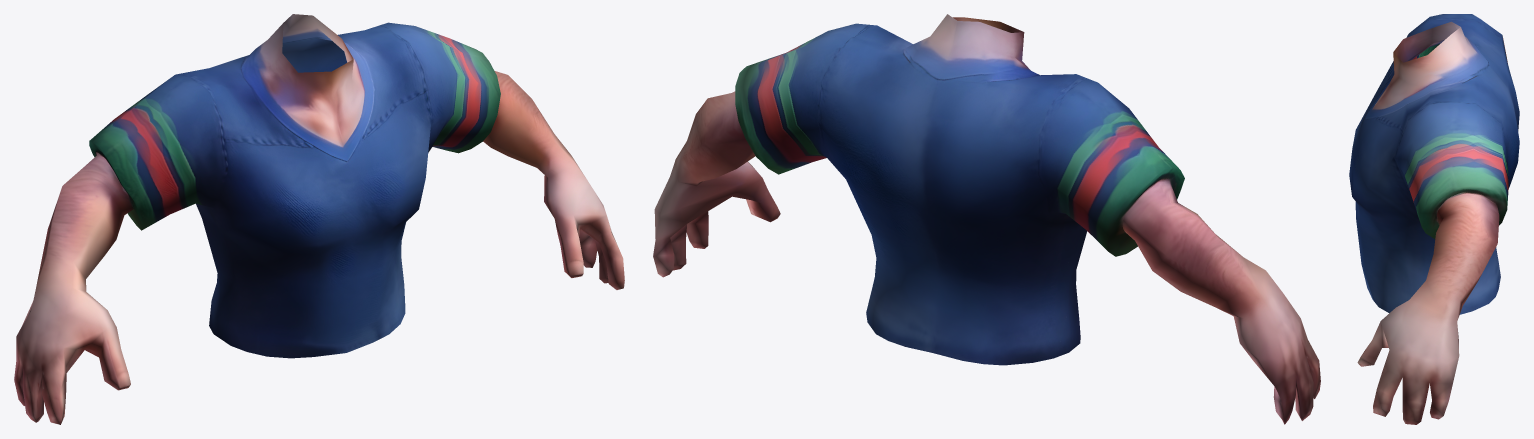
File: crowd_torso_m9_blue_vneck.fbx
3 views of the same model, side by side, from view 1: azimuth 30°, elevation 25°; view 2: azimuth 150°, elevation 25°; view 3: azimuth 270°, elevation 25° (orthographic). The views are drawn at different scales.
Parts seen in each view (by area): view 1: tripo_node_3141be17; view 2: tripo_node_3141be17; view 3: tripo_node_3141be17.
Boxes of the visible parts, box(x1,y1,x2,y2) form: tripo_node_3141be17: box(14, 14, 624, 424); tripo_node_3141be17: box(653, 14, 1320, 424); tripo_node_3141be17: box(1349, 14, 1519, 424).
Size of the model in its own units: 0.9995 by 0.521 by 0.2915.
Materials: 1 (1 with a texture image).
